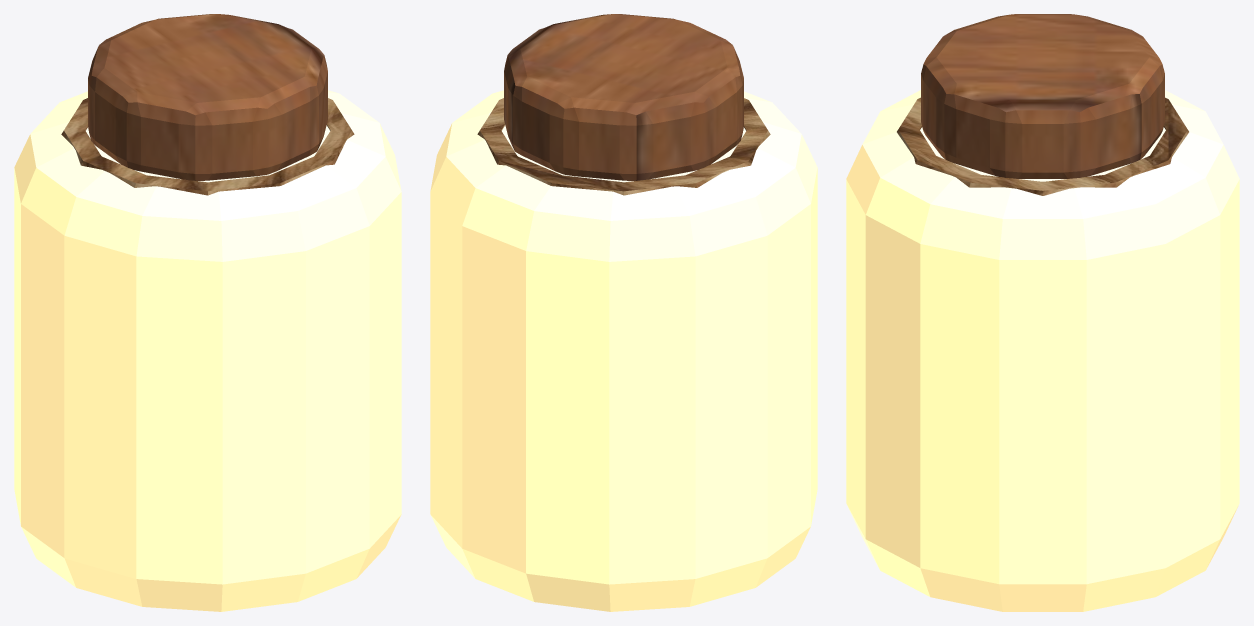
File: firefly_jar.glb
3 views of the same model, side by side, from view 1: azimuth 30°, elevation 25°; view 2: azimuth 150°, elevation 25°; view 3: azimuth 270°, elevation 25° (orthographic).
Parts seen in each view (by area): view 1: model; view 2: model; view 3: model.
Boxes of the visible parts, x1,y1,x2,y2 form: model: (14, 14, 401, 611); model: (430, 14, 817, 611); model: (846, 14, 1239, 611).
Bounding box in the file's own units: 0.2145 × 0.305 × 0.22.
Materials: 4 (2 with a texture image).
